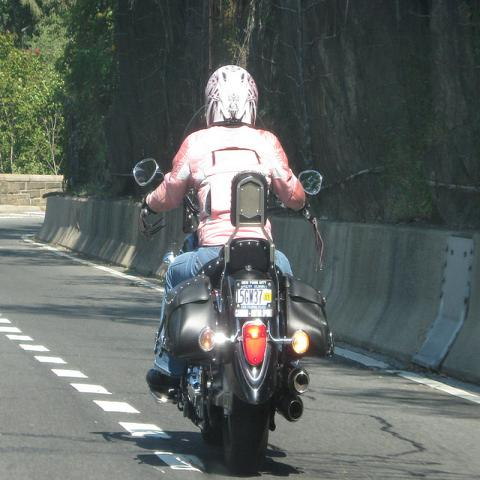motorcycle: (132, 157, 336, 470)
